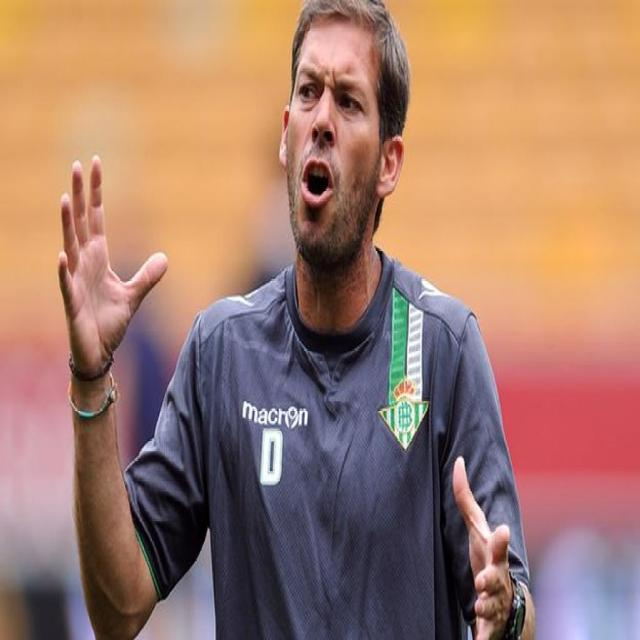Face: (282, 14, 407, 286)
